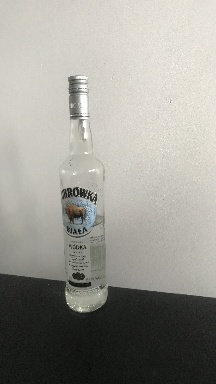butelka: (57, 72, 110, 315)
